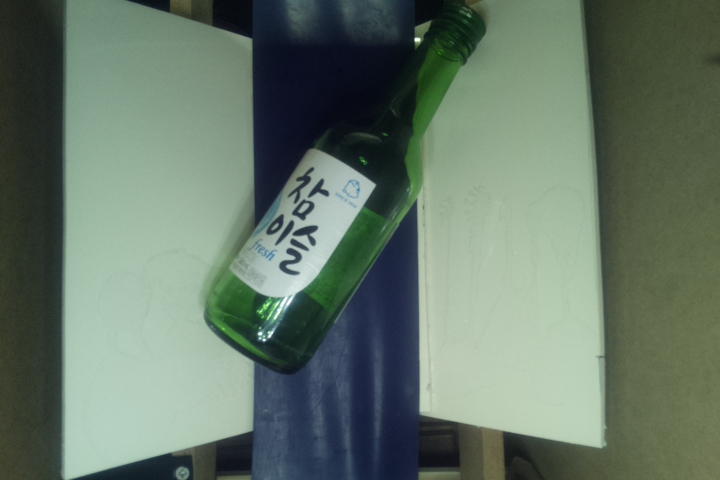soju: (210, 1, 488, 376)
